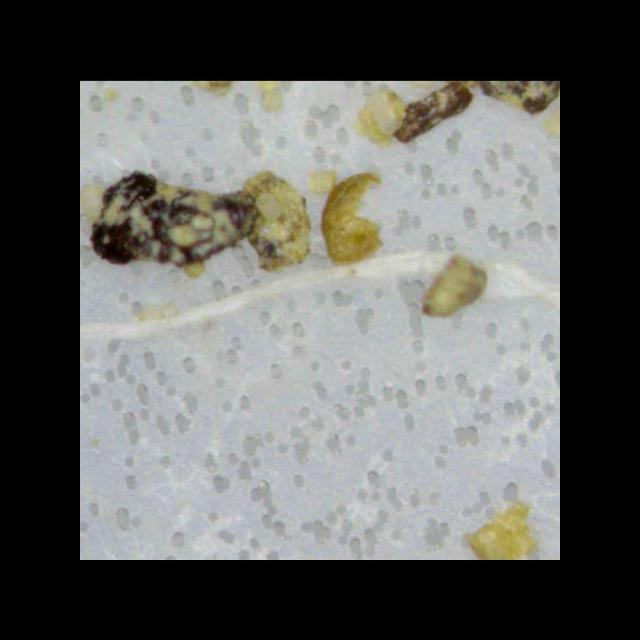Fibre: (80, 247, 560, 357), (88, 168, 312, 274)
